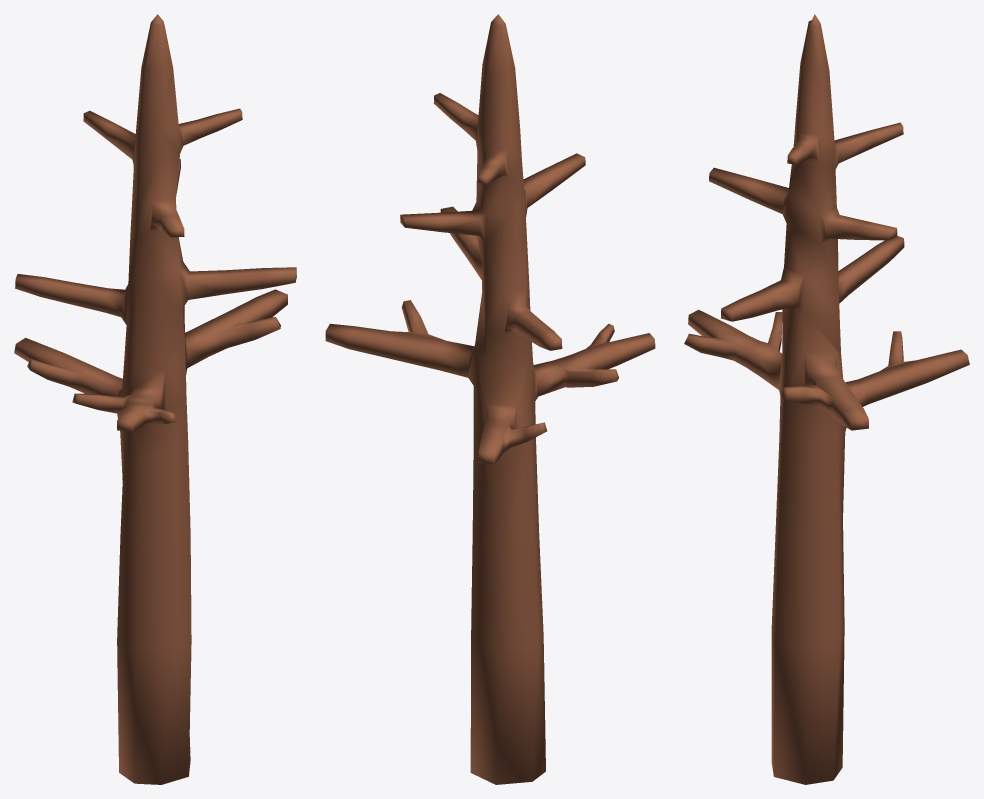
The model's file is DeadTrunk_A_02_LOD2.gltf.
3 renders of one model, left to right at view 1: azimuth 30°, elevation 25°; view 2: azimuth 150°, elevation 25°; view 3: azimuth 270°, elevation 25°, orthographic.
Parts seen in each view (by area): view 1: DeadTrunk_A_02_LOD2_Cylinder.605; view 2: DeadTrunk_A_02_LOD2_Cylinder.605; view 3: DeadTrunk_A_02_LOD2_Cylinder.605.
Boxes of the visible parts, bbox=[...] form: DeadTrunk_A_02_LOD2_Cylinder.605: bbox=[14, 14, 296, 784]; DeadTrunk_A_02_LOD2_Cylinder.605: bbox=[325, 14, 655, 784]; DeadTrunk_A_02_LOD2_Cylinder.605: bbox=[684, 14, 969, 784].
Bounding box in the file's own units: 4.46 × 12.81 × 4.34.
1 material, 1 textured.
